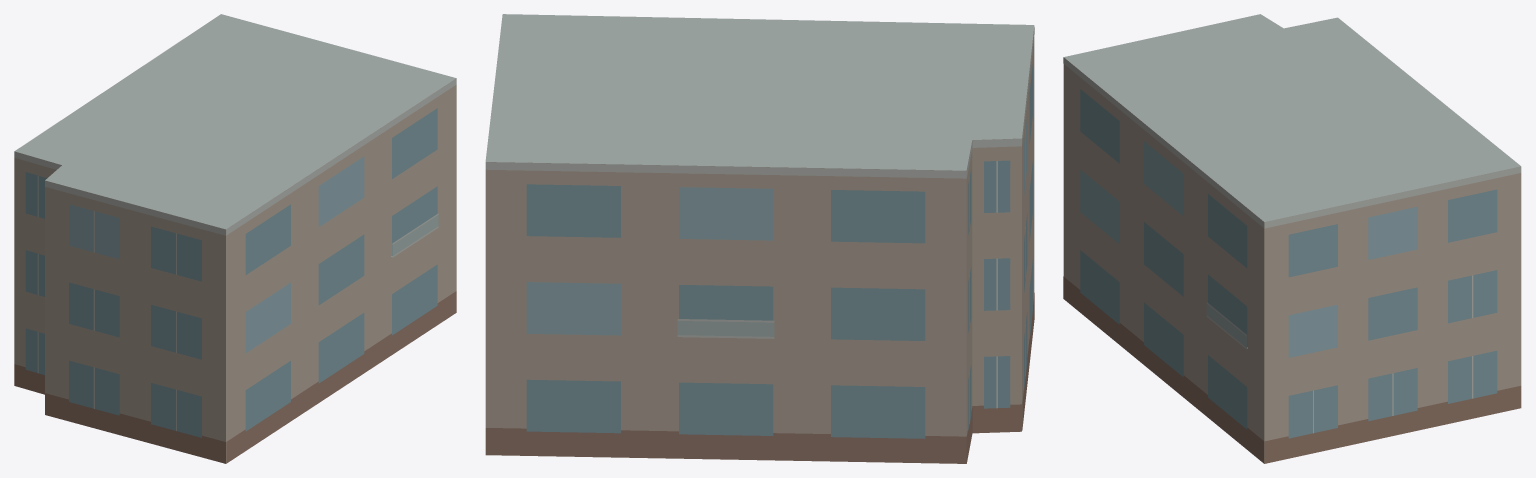
Rendered from survey-upis-32834132.glb.
3 views of the same model, side by side, from view 1: azimuth 30°, elevation 25°; view 2: azimuth 150°, elevation 25°; view 3: azimuth 270°, elevation 25° (orthographic). The views are drawn at different scales.
Parts seen in each view (by area): view 1: survey-upis-32834132.tmp; view 2: survey-upis-32834132.tmp; view 3: survey-upis-32834132.tmp.
Part boxes in pixels (x1,y1,x2,y2): survey-upis-32834132.tmp: [14, 14, 456, 463]; survey-upis-32834132.tmp: [485, 14, 1034, 463]; survey-upis-32834132.tmp: [1063, 14, 1521, 463].
Size of the model in its own units: 16.81 by 9.1 by 15.63.
